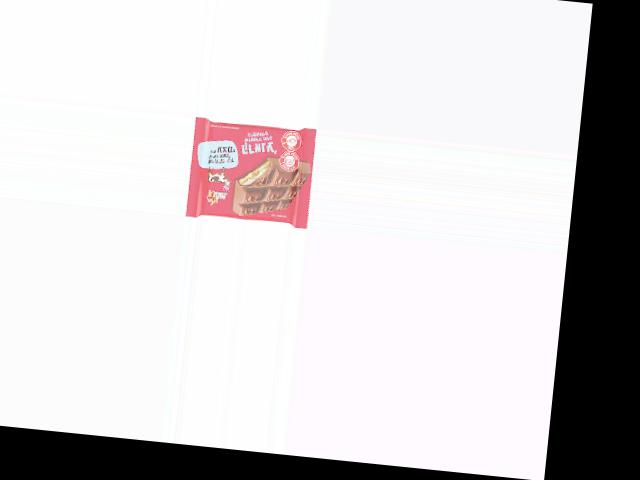chocolate: (189, 116, 315, 227)
